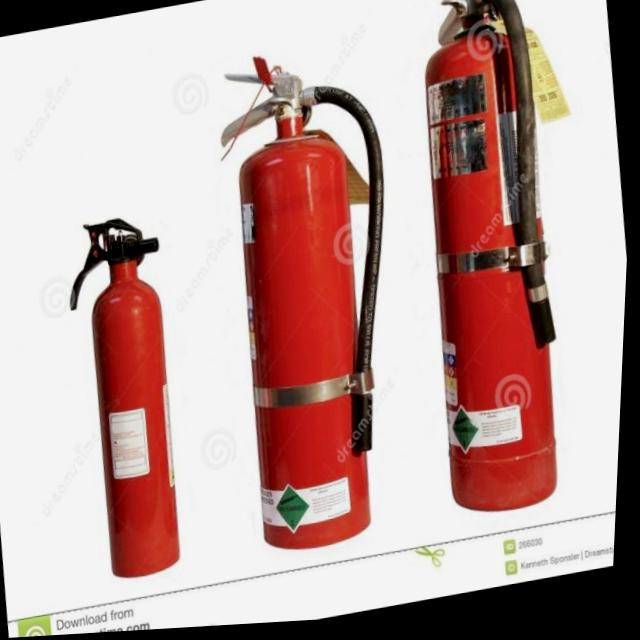FireExtinguisher: (194, 33, 437, 570), (387, 0, 596, 534), (49, 205, 206, 593)
